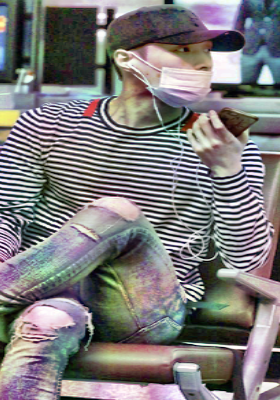mask_weared_incorrect: (130, 43, 213, 108)
